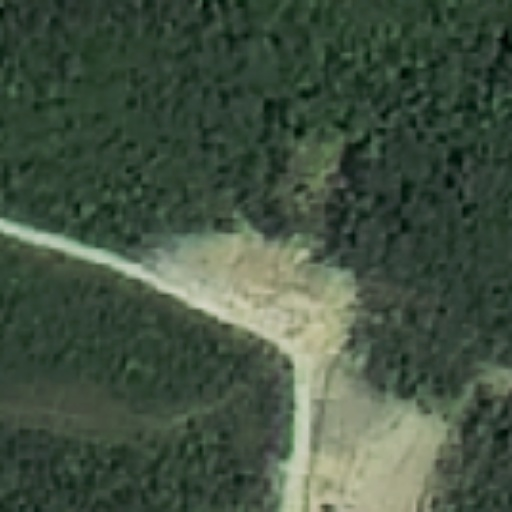landslide: (161, 230, 356, 353)
